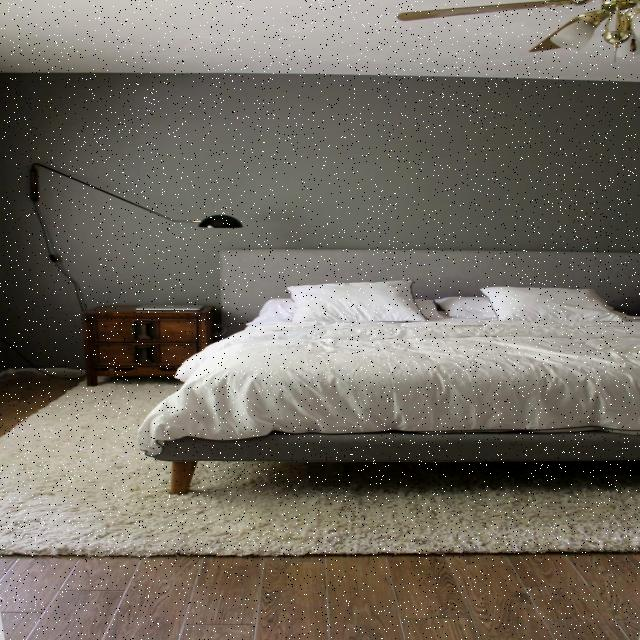bed: (169, 232, 640, 486)
